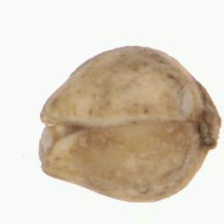L1: (195, 82, 222, 151), (37, 106, 60, 173)
L2: (36, 45, 222, 203)
